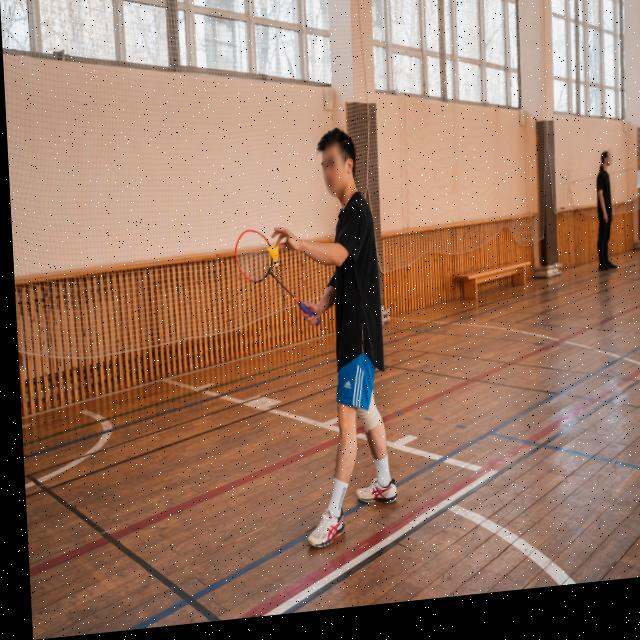Person: (272, 108, 414, 575), (581, 152, 623, 291)
